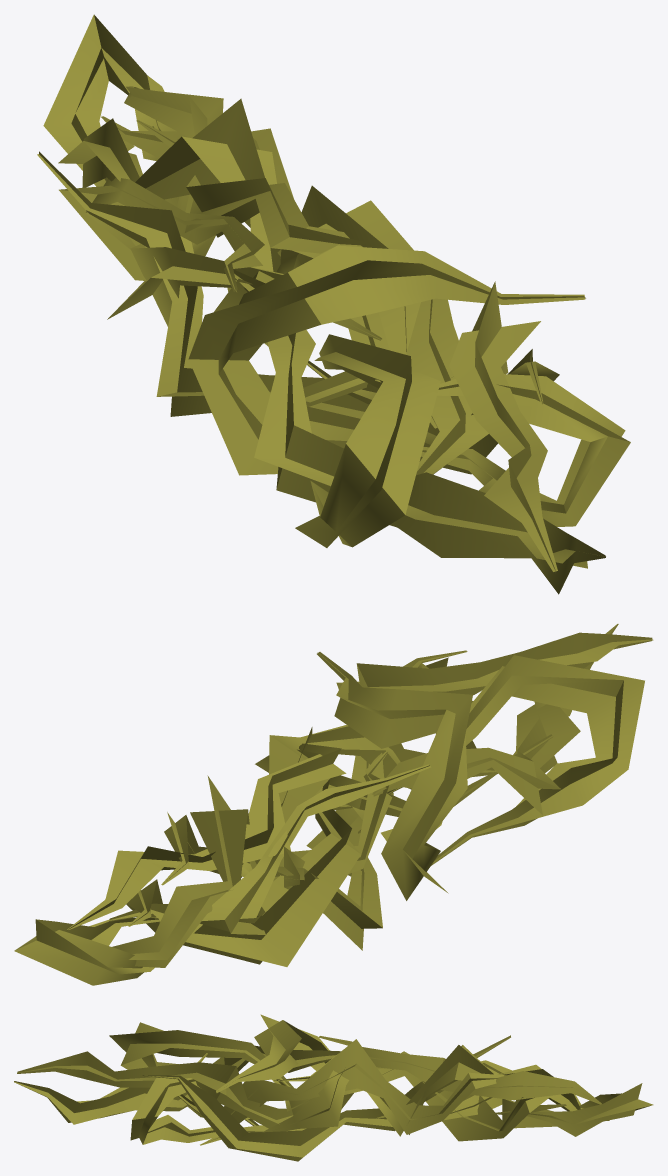
File: etc_gargoyle_weapon_aura_sword_elec_eff.glb
3 renders of one model, top to bottom at view 1: azimuth 30°, elevation 25°; view 2: azimuth 150°, elevation 25°; view 3: azimuth 270°, elevation 25°, orthographic. The views are drawn at different scales.
Size of the model in its own units: 0.7227 by 0.5015 by 2.43.
